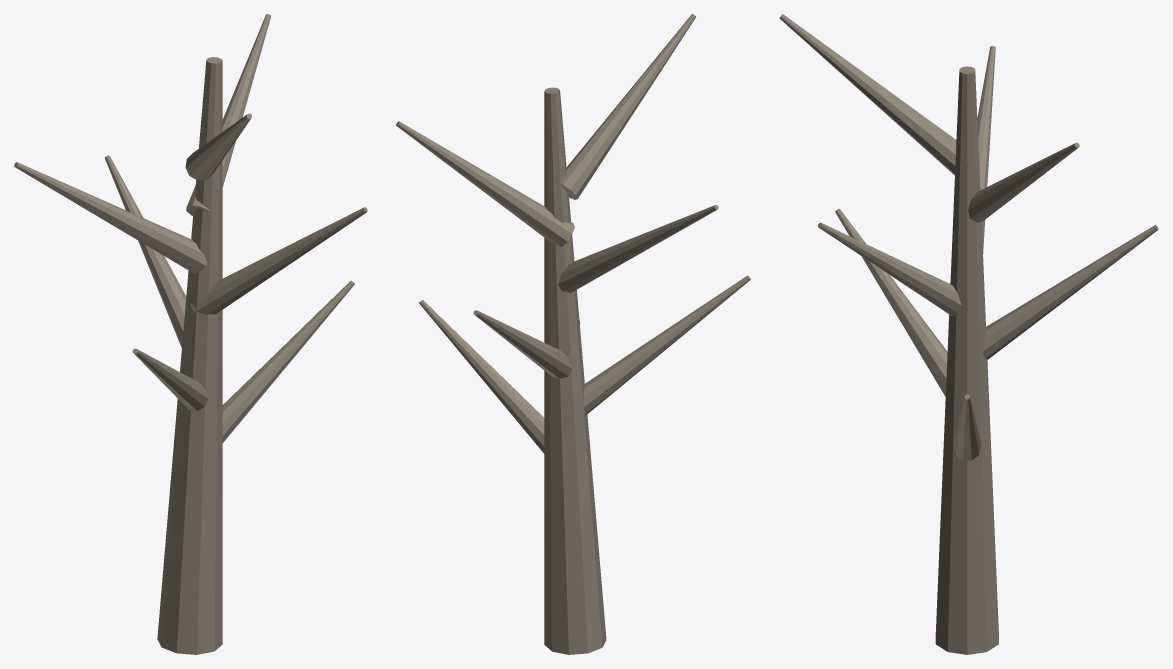
Rendered from a6_tree.glb.
The picture shows the model from 3 angles, left to right: view 1: azimuth 30°, elevation 25°; view 2: azimuth 150°, elevation 25°; view 3: azimuth 270°, elevation 25°; orthographic projection. The views are drawn at different scales.
Parts seen in each view (by area): view 1: Body.069; view 2: Body.069; view 3: Body.069.
Boxes of the visible parts, x1,y1,x2,y2 form: Body.069: (14, 14, 367, 654); Body.069: (396, 14, 750, 654); Body.069: (779, 14, 1158, 654).
Bounding box in the file's own units: 1.61 × 2.84 × 1.6.
